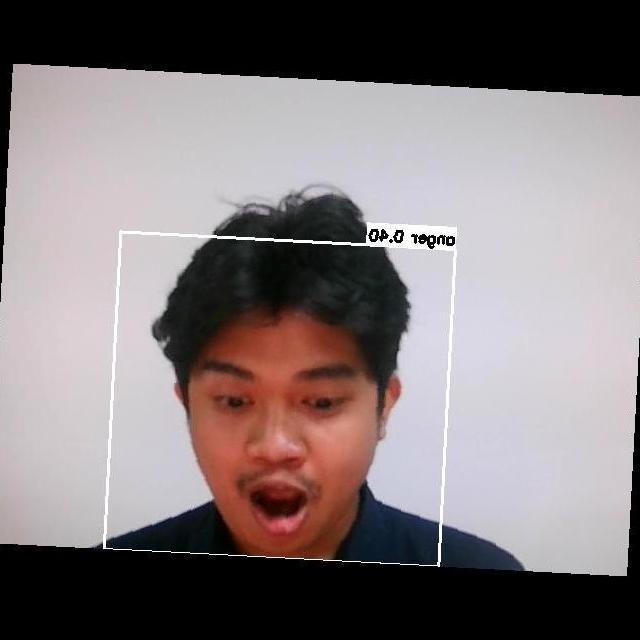Surprised: (183, 332, 389, 557)
